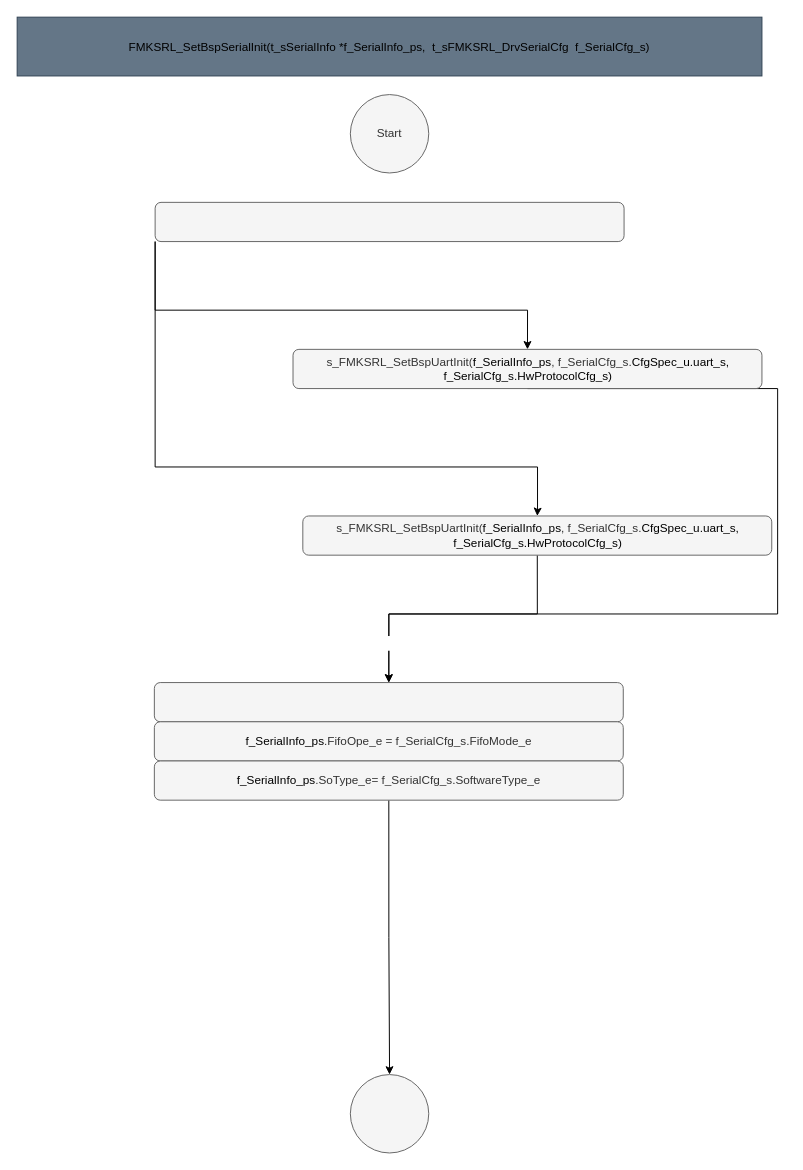
The diagram is 803 pixels wide and 1170 high, and some of its shapes have lost their labels. The centre of each missing label's shape, as x and y in pixels:
End: (389,1113)
f_SerialInfo_ps .RunOpe_e = f_SerialCfg_s.RunMode_e: (388,702)
switch f_SerialCfg_s.HwType_e: (389,221)
